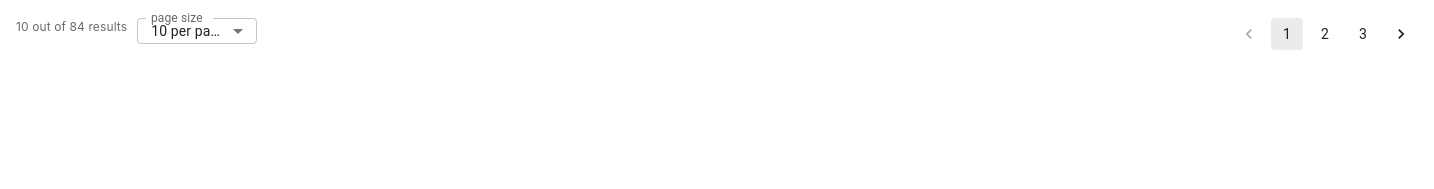
Test case: PagingItem component › renders PagingItem having 1 button, 2 typographies and 1 text box
Check: the text "10 out of 84 results" is shown, box left=16, top=19, right=127, bottom=34
Check: the number of buttons is 5, box left=1233, top=18, right=1265, bottom=50; left=1271, top=18, right=1303, bottom=50; left=1309, top=18, right=1341, bottom=50; left=1347, top=18, right=1379, bottom=50; left=1385, top=18, right=1417, bottom=50
Click the dropdown at (189, 31), box left=151, top=23, right=226, bottom=39
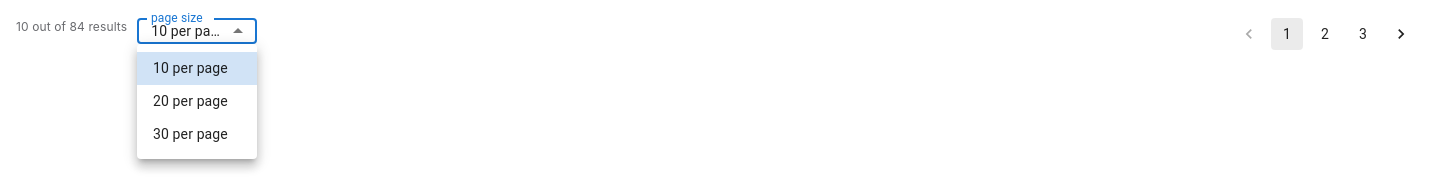
Check: the number of options is 3, box left=137, top=52, right=257, bottom=85; left=153, top=93, right=228, bottom=109; left=153, top=126, right=228, bottom=142
